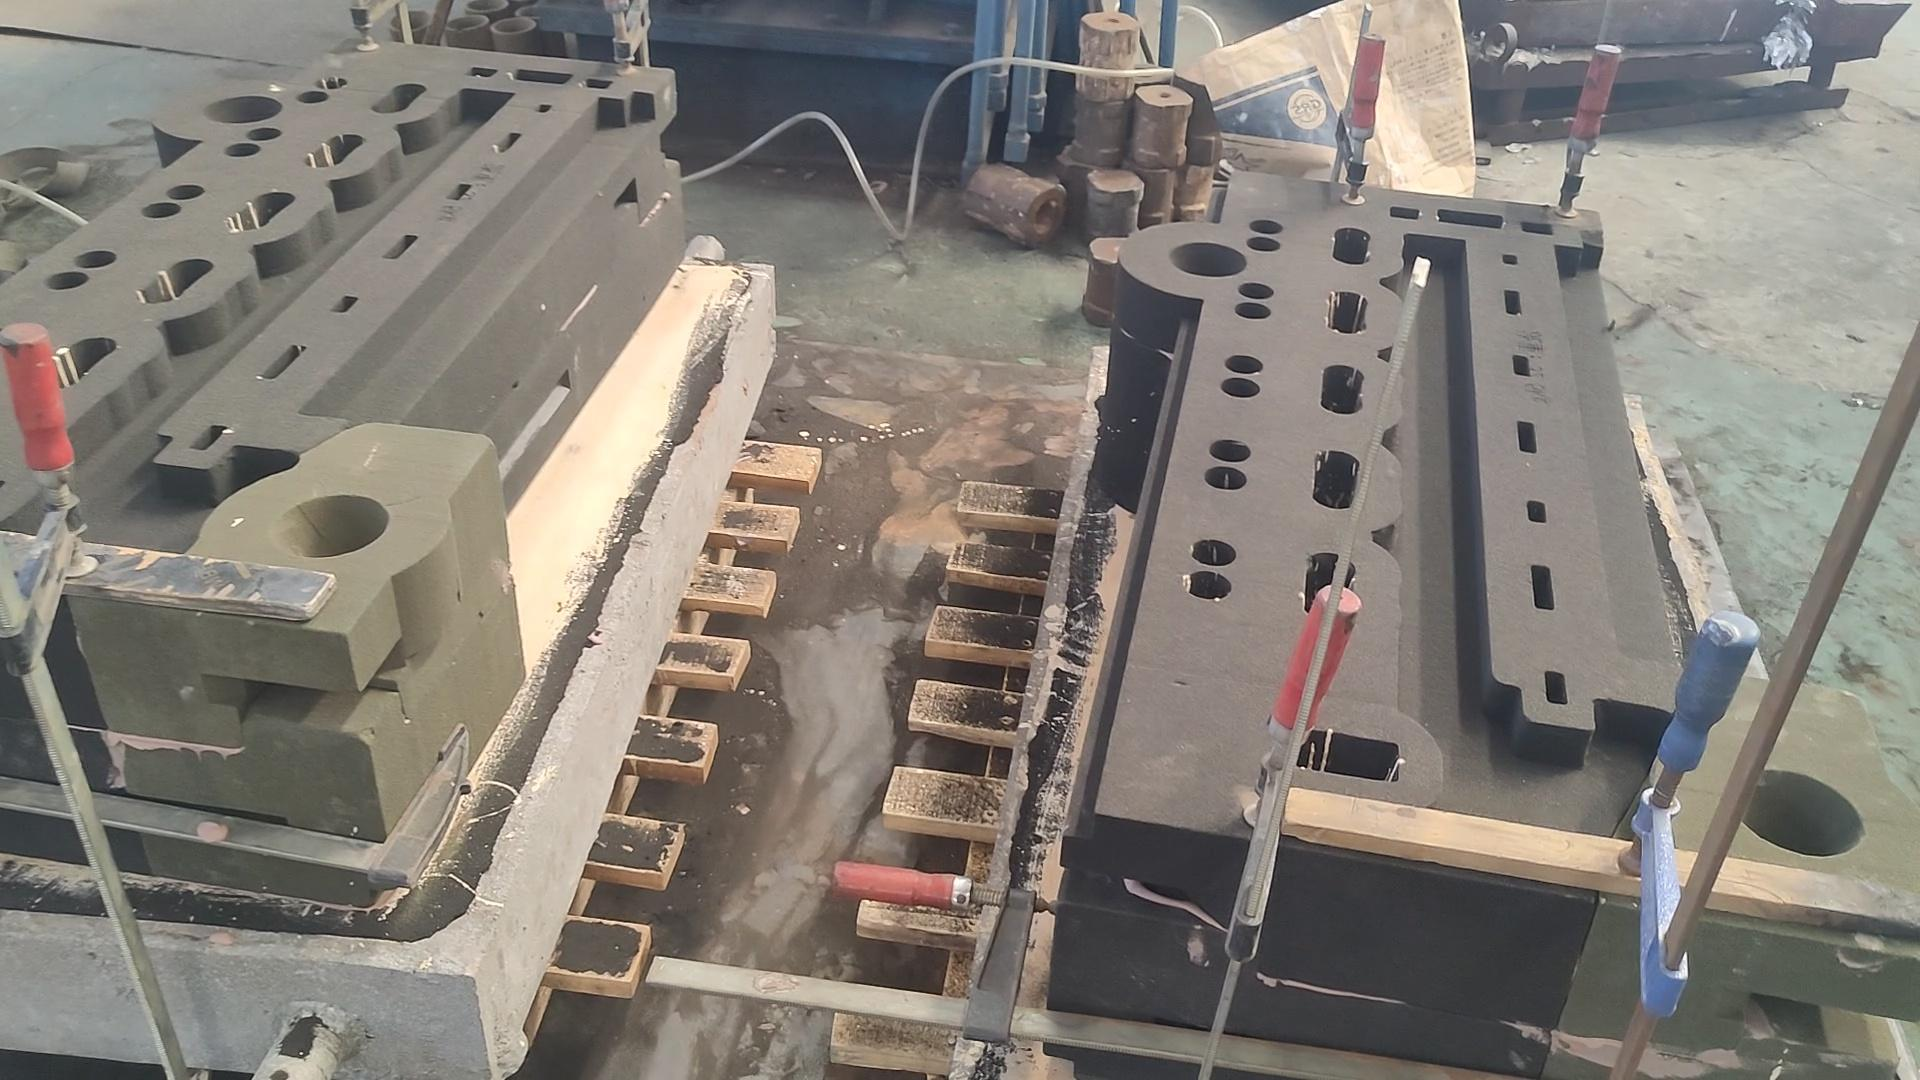pouring hole: (1729, 767, 1863, 857), (272, 495, 389, 558), (1170, 243, 1247, 278), (200, 95, 284, 124), (390, 11, 429, 30), (493, 17, 535, 34), (444, 15, 487, 32), (516, 3, 556, 18), (463, 1, 508, 13)
